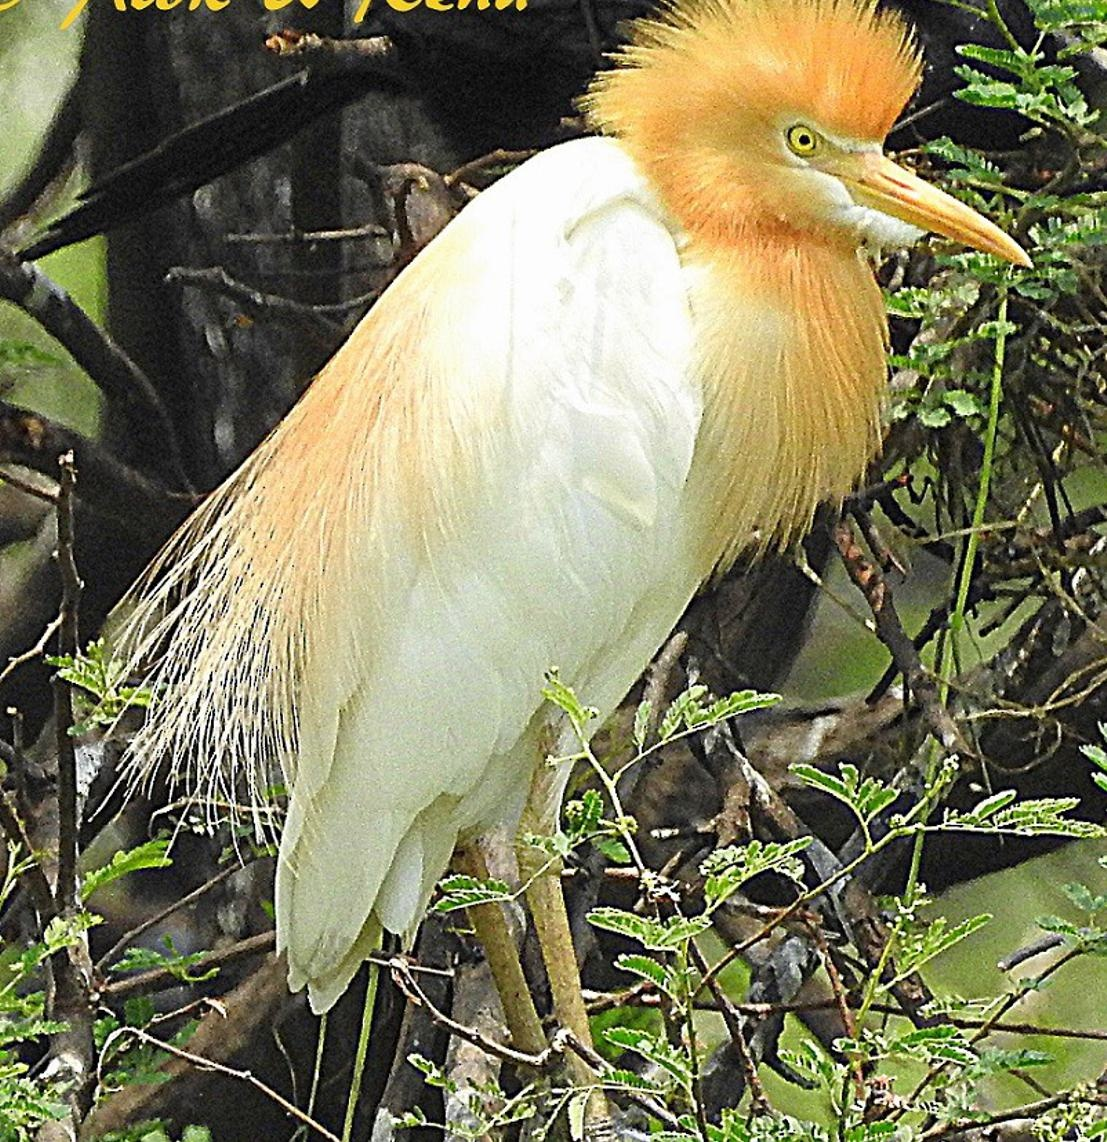egret: (104, 3, 1061, 1096)
